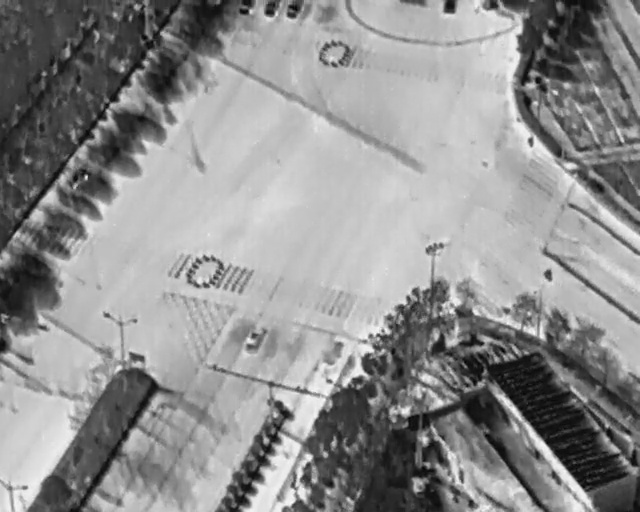Car: (243, 322, 267, 355), (287, 0, 304, 18), (265, 0, 282, 17), (237, 0, 255, 15), (443, 1, 457, 12)
